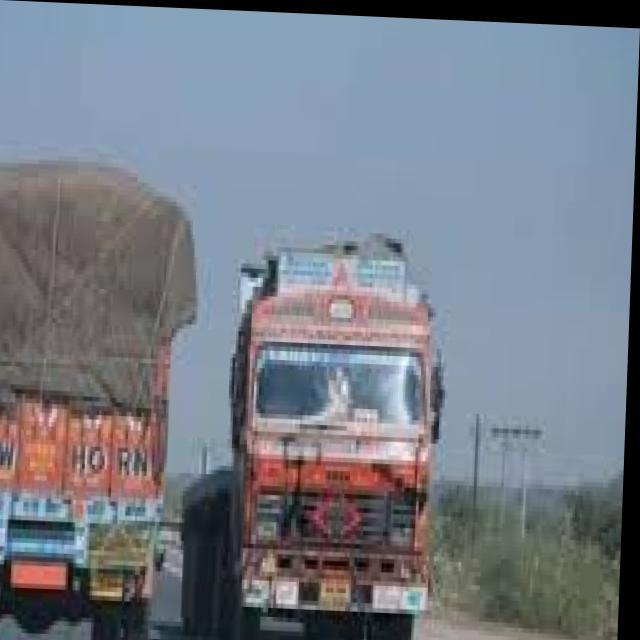covered: (0, 153, 187, 640)
